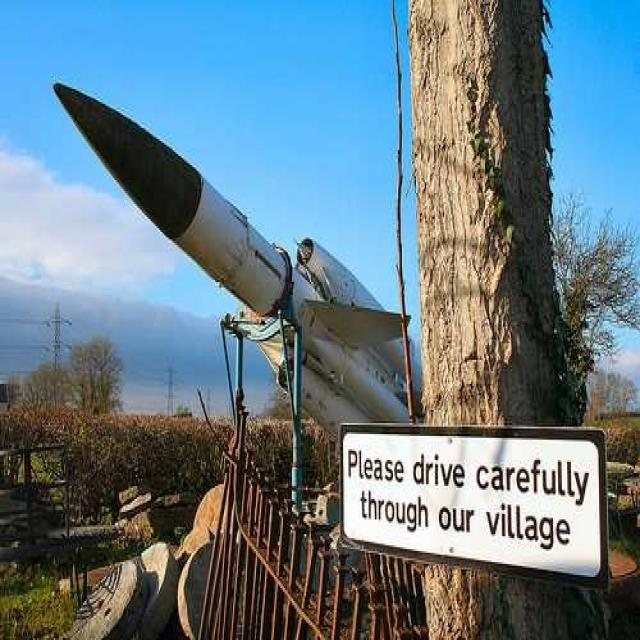missile: (51, 79, 415, 437)
